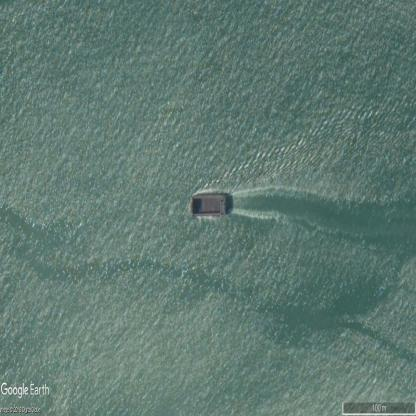ship: (189, 193, 227, 217)
